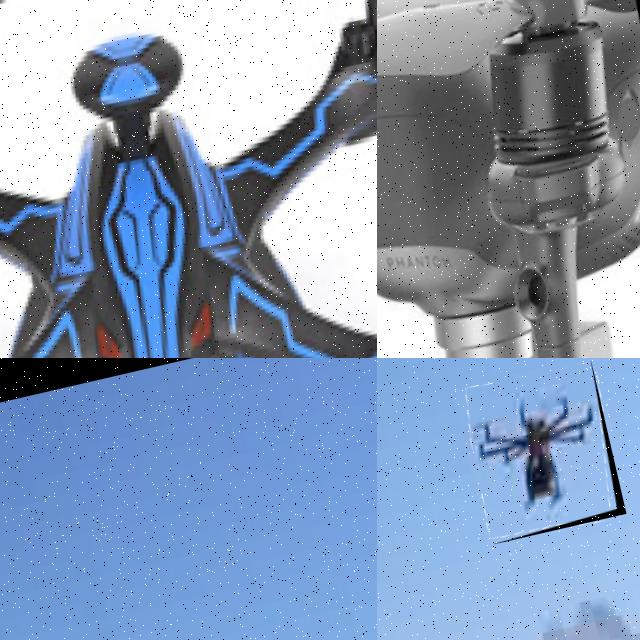drone: (0, 0, 377, 358), (377, 0, 640, 358), (458, 360, 626, 544)
